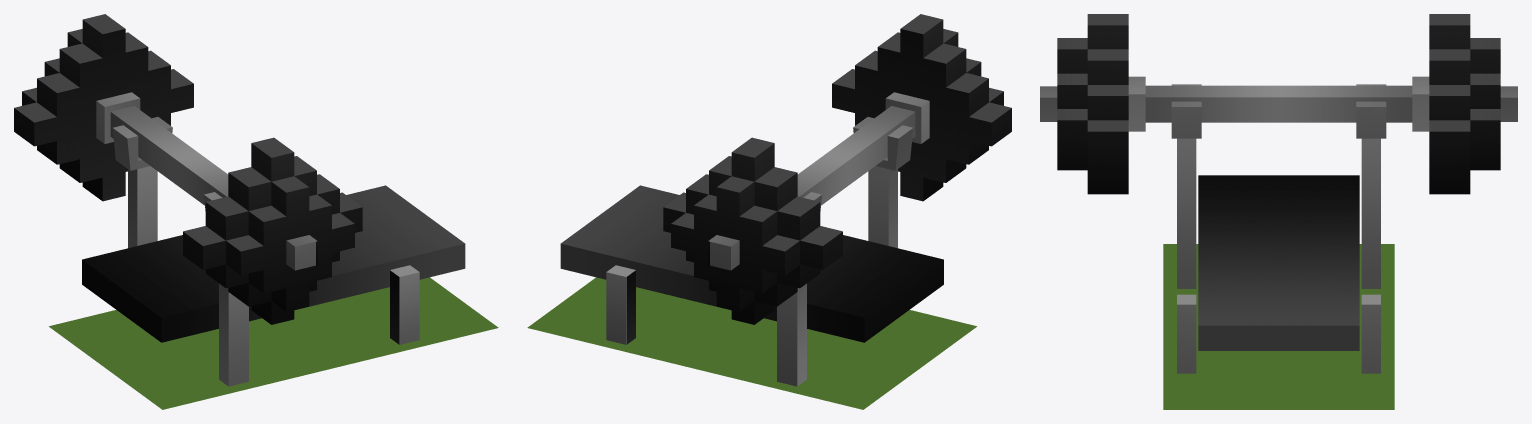
The model's file is bench.glb.
The picture shows the model from 3 angles, left to right: view 1: azimuth 30°, elevation 25°; view 2: azimuth 150°, elevation 25°; view 3: azimuth 270°, elevation 25°; orthographic projection.
Visible parts, largest first — view 1: obstaculo; view 2: obstaculo; view 3: obstaculo.
Part boxes in pixels (x1,y1,x2,y2): obstaculo: (14,14,498,409); obstaculo: (527,14,1011,409); obstaculo: (1040,14,1517,409).
Bounding box in the file's own units: 2.49 × 1.85 × 3.03.
Materials: 1 (1 with a texture image).
